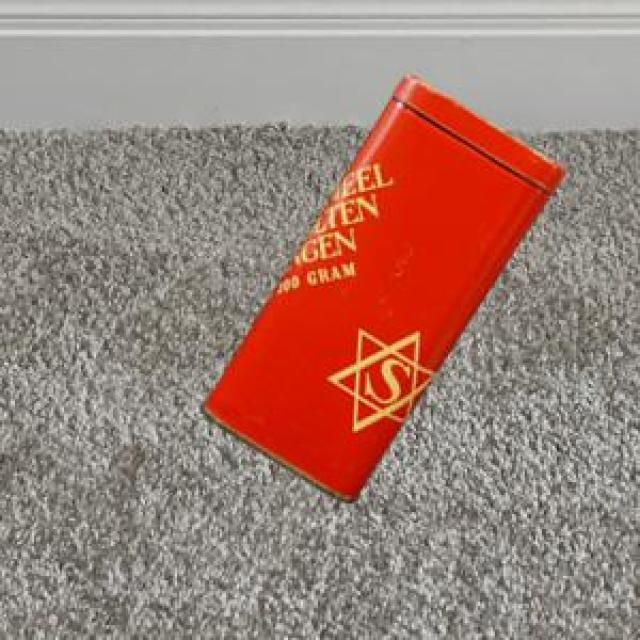logam: (199, 71, 562, 500)
